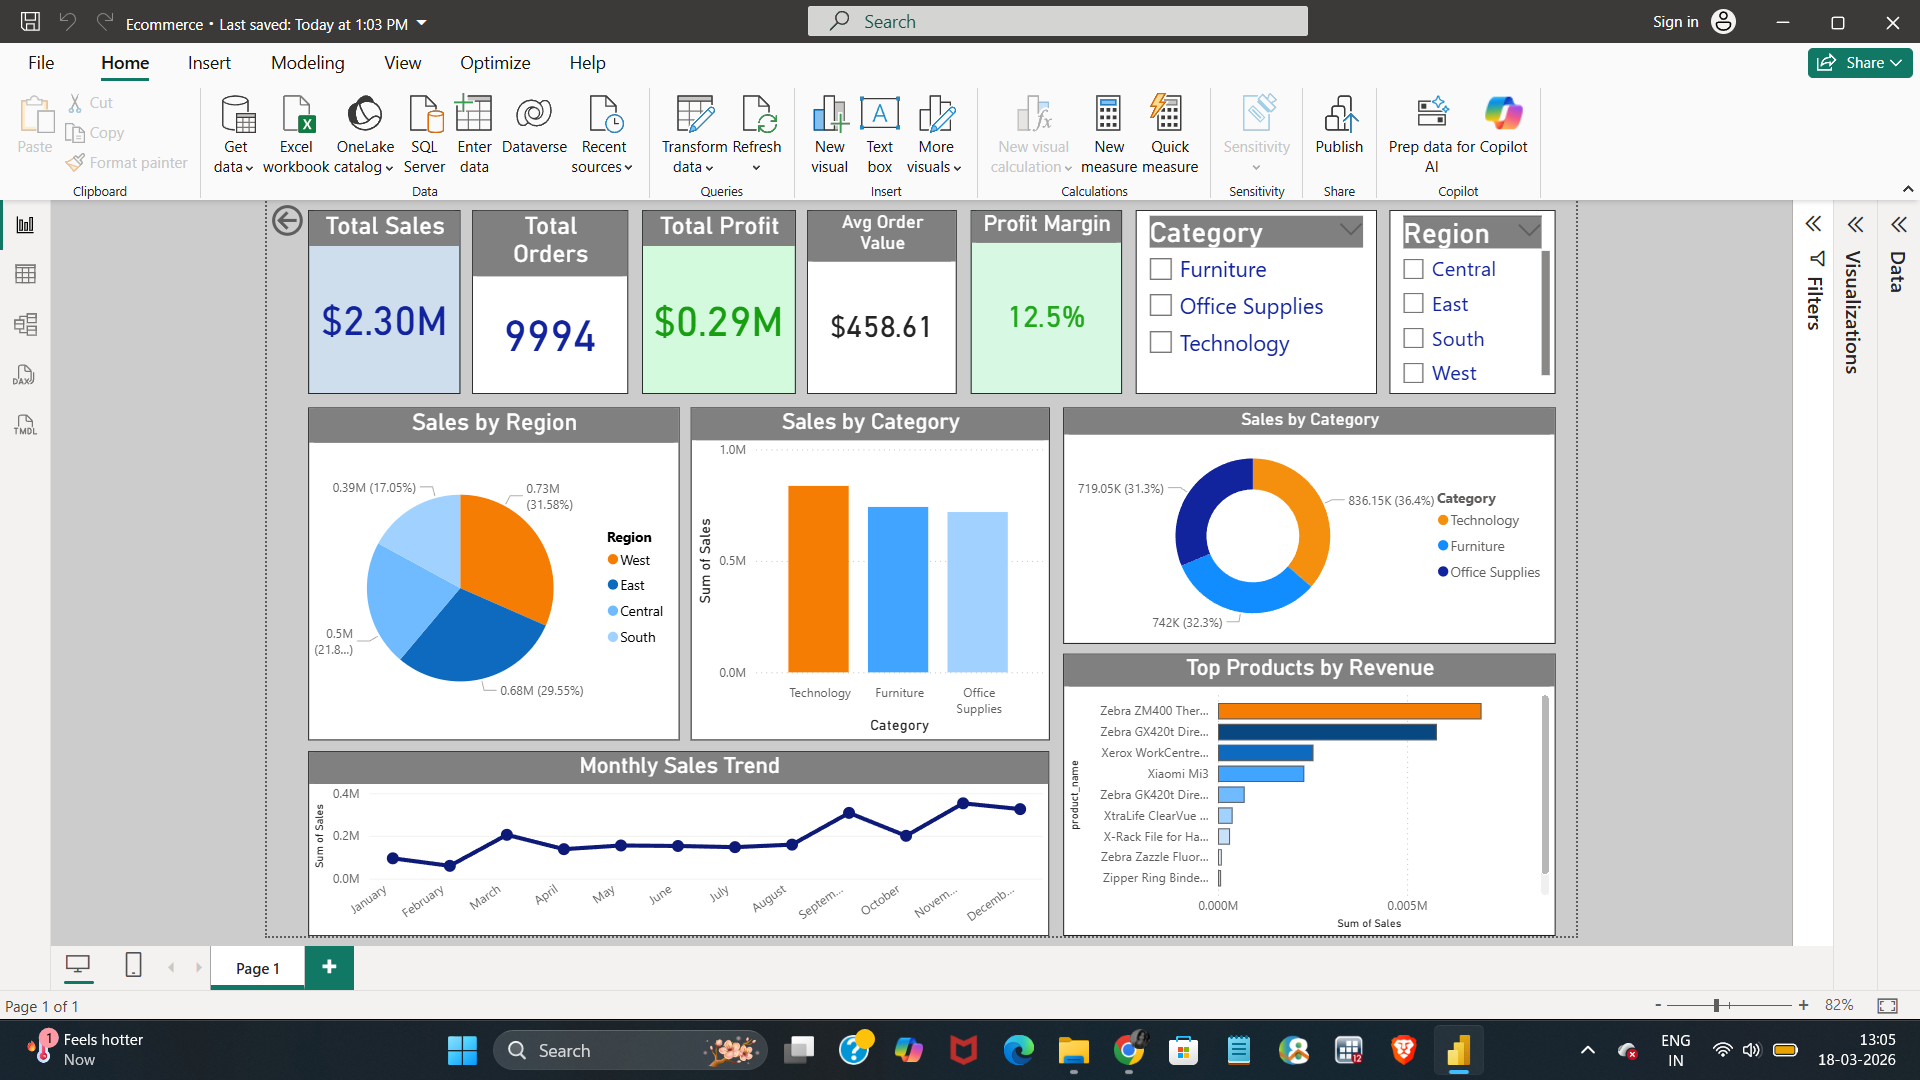

Layout of this report page (visuals, bound fields, positions):
{"tool":"powerbi","page":{"name":"Page 1","canvas":[1280,720],"ordinal":0},"visuals":[{"type":"pieChart","title":"Sales by Region","fields":{"Category":["sales_data.Region"],"Y":["Sum(sales_data.Sales)"]},"box":[40.4,203,363.2,325.3],"z":0},{"type":"actionButton","box":[0,0,100,40],"z":1000},{"type":"lineChart","title":"Monthly Sales Trend","fields":{"Category":["sales_data.order_date.Variation.Date Hierarchy.Month"],"Y":["Sum(sales_data.Sales)"]},"box":[40.4,539.3,725.1,181],"z":2000},{"type":"clusteredBarChart","title":"Top Products by Revenue","fields":{"Category":["sales_data.product_name"],"Y":["Sum(sales_data.Sales)"]},"box":[778.9,203,481.8,517.3],"z":3000},{"type":"card","title":"Total Sales","fields":{"Values":["Sum(sales_data.Sales)"]},"box":[40.4,9.8,222.6,179.8],"z":4000},{"type":"card","title":"Total Orders","fields":{"Values":["CountNonNull(sales_data.order_id)"]},"box":[277.6,9.8,233.6,179.8],"z":5000},{"type":"card","title":"Total Profit","fields":{"Values":["Sum(sales_data.Profit)"]},"box":[523.4,9.8,242.1,179.8],"z":6000},{"type":"slicer","fields":{"Values":["sales_data.Region"]},"box":[1024.7,9.8,236,179.8],"z":7000},{"type":"slicer","fields":{"Values":["sales_data.Category"]},"box":[778.9,9.8,236,179.8],"z":8000},{"type":"clusteredColumnChart","title":"Sales by Category","fields":{"Category":["sales_data.Category"],"Y":["Sum(sales_data.Sales)"]},"box":[414.5,203,351,325.3],"z":9000}]}

Visuals, with their boxes on the page's 1280x720 design canvas (x1, y1, x2, y2). These are canvas units, not pixel positions in the 1920x1080 screenshot, which may show the page scaled, cropped or inside an application window:
"Sales by Region" pieChart: pyautogui.locateOnScreen(40, 203, 404, 528)
actionButton: pyautogui.locateOnScreen(0, 0, 100, 40)
"Monthly Sales Trend" lineChart: pyautogui.locateOnScreen(40, 539, 766, 720)
"Top Products by Revenue" clusteredBarChart: pyautogui.locateOnScreen(779, 203, 1261, 720)
"Total Sales" card: pyautogui.locateOnScreen(40, 10, 263, 190)
"Total Orders" card: pyautogui.locateOnScreen(278, 10, 511, 190)
"Total Profit" card: pyautogui.locateOnScreen(523, 10, 766, 190)
slicer - sales_data.Region: pyautogui.locateOnScreen(1025, 10, 1261, 190)
slicer - sales_data.Category: pyautogui.locateOnScreen(779, 10, 1015, 190)
"Sales by Category" clusteredColumnChart: pyautogui.locateOnScreen(414, 203, 766, 528)
